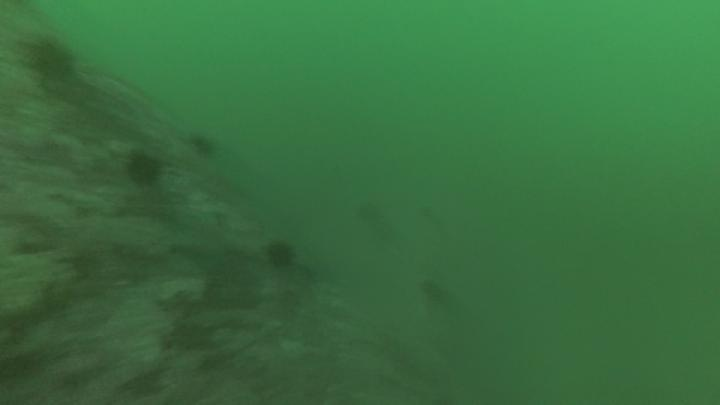echinus: (24, 34, 78, 86), (123, 149, 165, 189), (263, 238, 298, 271), (186, 130, 219, 160)
